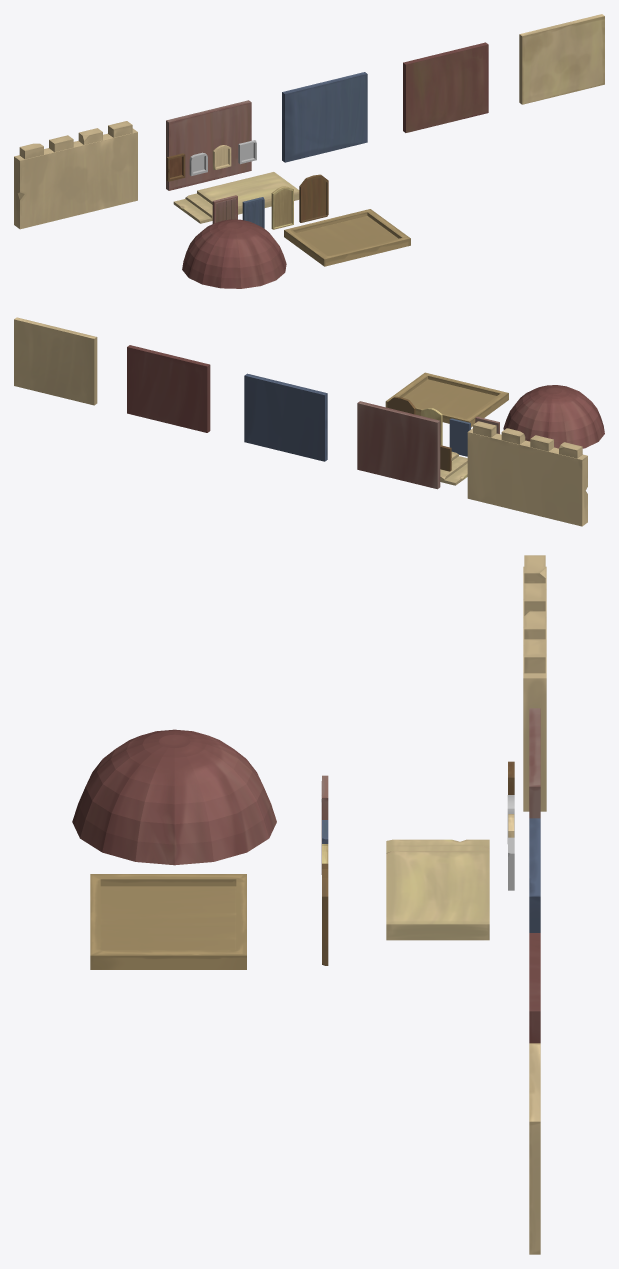
Rendered from ek objeler.fbx.
3 renders of one model, top to bottom at view 1: azimuth 30°, elevation 25°; view 2: azimuth 150°, elevation 25°; view 3: azimuth 270°, elevation 25°, orthographic. The views are drawn at different scales.
Parts seen in each view (by area): view 1: duvar5, duvar 4, duvar2, duvar3, catı1, duvar1, catı2, merdiven, kapı4, kapı3, kapı1, kapı2 (+4 smaller); view 2: duvar5, duvar2, duvar 4, duvar1, duvar3, catı1, catı2, kapı2, merdiven, kapı4, pecere4; view 3: catı1, catı2, merdiven, duvar5, duvar 4, duvar2, duvar1, duvar3.
Boxes of the visible parts, x1,y1,x2,y2 form: duvar5: (14, 121, 137, 229); duvar 4: (519, 14, 604, 104); duvar2: (282, 72, 367, 162); duvar3: (403, 42, 488, 132); catı1: (182, 219, 286, 288); duvar1: (166, 100, 251, 190); catı2: (284, 209, 410, 266); merdiven: (173, 172, 299, 223); kapı4: (299, 174, 328, 222); kapı3: (271, 186, 293, 229); kapı1: (212, 195, 237, 223); kapı2: (242, 197, 264, 228); duvar5: (467, 421, 587, 526); duvar2: (244, 373, 327, 461); duvar 4: (14, 317, 97, 405); duvar1: (357, 401, 440, 489); duvar3: (127, 345, 210, 432); catı1: (503, 385, 604, 448); catı2: (385, 372, 508, 427); kapı2: (449, 418, 470, 456); merdiven: (440, 451, 467, 485); kapı4: (387, 396, 415, 414); pecere4: (440, 445, 451, 471); catı1: (72, 729, 276, 865); catı2: (90, 874, 246, 969); merdiven: (386, 839, 489, 940); duvar5: (523, 555, 546, 811); duvar 4: (529, 1043, 540, 1254); duvar2: (529, 818, 540, 932); duvar1: (529, 708, 540, 818); duvar3: (529, 933, 540, 1043).
Size of the model in its own units: 4706 by 680 by 1698.
